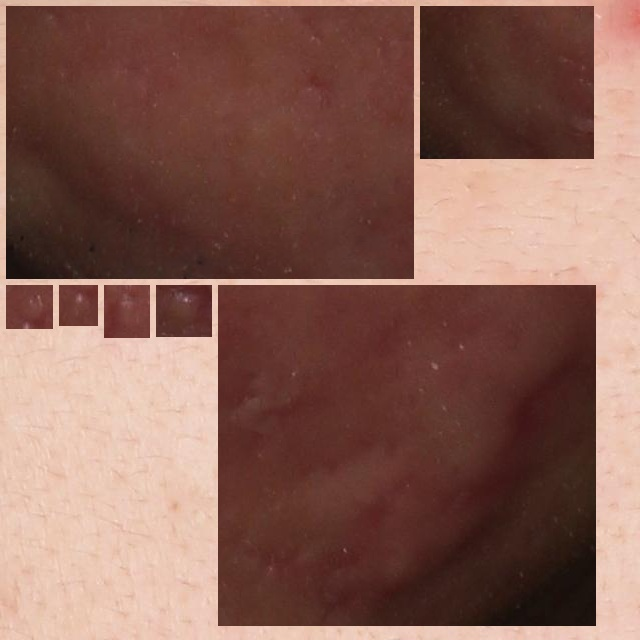hypertrophic_scar: (226, 293, 588, 618), (14, 14, 406, 271), (428, 14, 586, 151), (164, 293, 204, 329), (112, 293, 142, 330), (14, 293, 45, 321), (67, 293, 90, 318)
